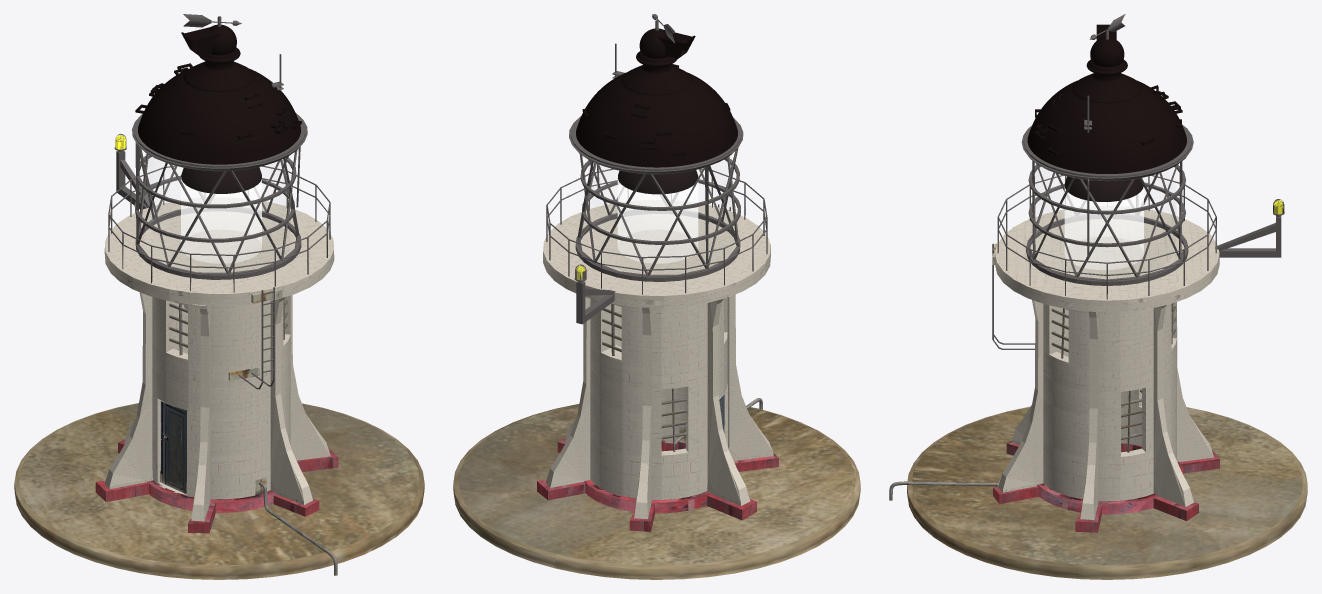
The picture shows the model from 3 angles, left to right: view 1: azimuth 30°, elevation 25°; view 2: azimuth 150°, elevation 25°; view 3: azimuth 270°, elevation 25°; orthographic projection. The views are drawn at different scales.
Visible parts, largest first — view 1: base (×4), butress (×2), dome, grill, lume (×2), railing, pipe2, ladder (×2), light stand, Cube, pipe, bars; view 2: base (×3), butress (×2), dome, grill, lume (×2), railing, pipe2, bars, light stand, Cube; view 3: base (×3), butress (×2), dome, grill, lume (×2), railing, pipe2, light stand, bars.
Part boxes in pixels (x1=…): base (×4): x1=14, y1=198, x2=424, y2=579; butress (×2): x1=95, y1=292, x2=338, y2=533; dome: x1=138, y1=24, x2=300, y2=164; grill: x1=134, y1=142, x2=301, y2=279; lume (×2): x1=181, y1=167, x2=261, y2=263; railing: x1=108, y1=165, x2=330, y2=292; pipe2: x1=132, y1=113, x2=307, y2=207; ladder (×2): x1=228, y1=287, x2=282, y2=389; light stand: x1=116, y1=150, x2=155, y2=209; Cube: x1=181, y1=27, x2=222, y2=56; pipe: x1=259, y1=482, x2=337, y2=575; bars: x1=169, y1=300, x2=287, y2=355; base (×3): x1=453, y1=200, x2=860, y2=579; butress (×2): x1=537, y1=294, x2=778, y2=531; dome: x1=576, y1=28, x2=737, y2=167; grill: x1=575, y1=148, x2=740, y2=281; lume (×2): x1=617, y1=170, x2=698, y2=263; railing: x1=546, y1=168, x2=767, y2=294; pipe2: x1=569, y1=116, x2=743, y2=194; bars: x1=602, y1=304, x2=724, y2=451; light stand: x1=576, y1=281, x2=615, y2=324; Cube: x1=657, y1=32, x2=695, y2=59; base (×3): x1=907, y1=206, x2=1307, y2=579; butress (×2): x1=993, y1=300, x2=1219, y2=532; dome: x1=1027, y1=37, x2=1186, y2=173; grill: x1=1026, y1=161, x2=1188, y2=285; lume (×2): x1=1064, y1=176, x2=1143, y2=270; railing: x1=997, y1=175, x2=1216, y2=299; pipe2: x1=1021, y1=124, x2=1193, y2=257; light stand: x1=1215, y1=215, x2=1281, y2=257; bars: x1=1051, y1=303, x2=1175, y2=452.
Bounding box in the file's own units: 9.05 × 11.71 × 9.44.
12 materials, 7 textured.
